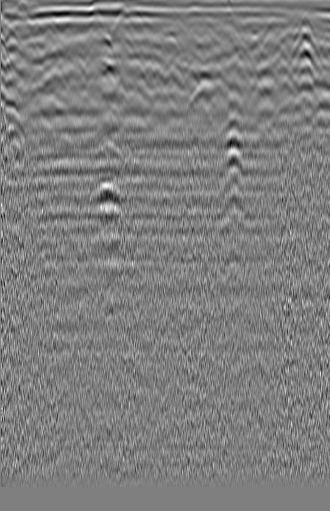가스: (86, 179, 125, 210)
상수: (23, 21, 57, 48)
오수: (287, 14, 321, 66)
우수: (150, 25, 187, 54)
